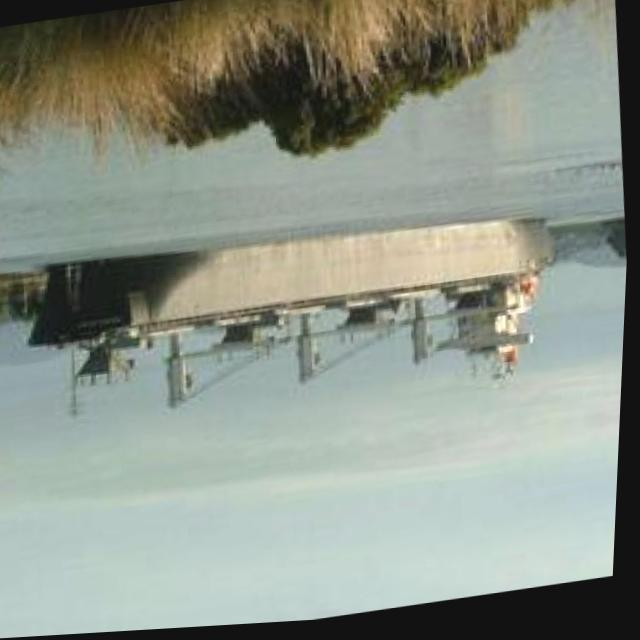ship2: (22, 223, 557, 433)
